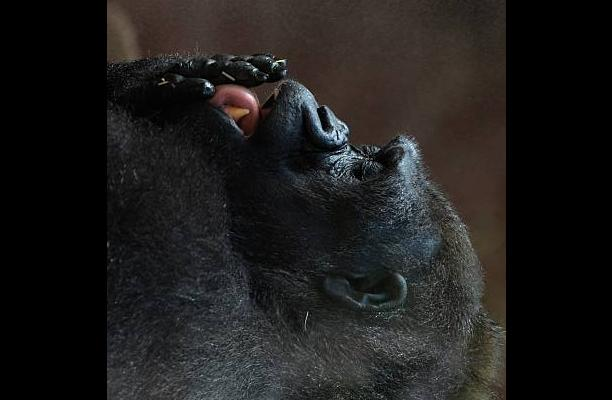gorille_Autres: (112, 35, 503, 400)
